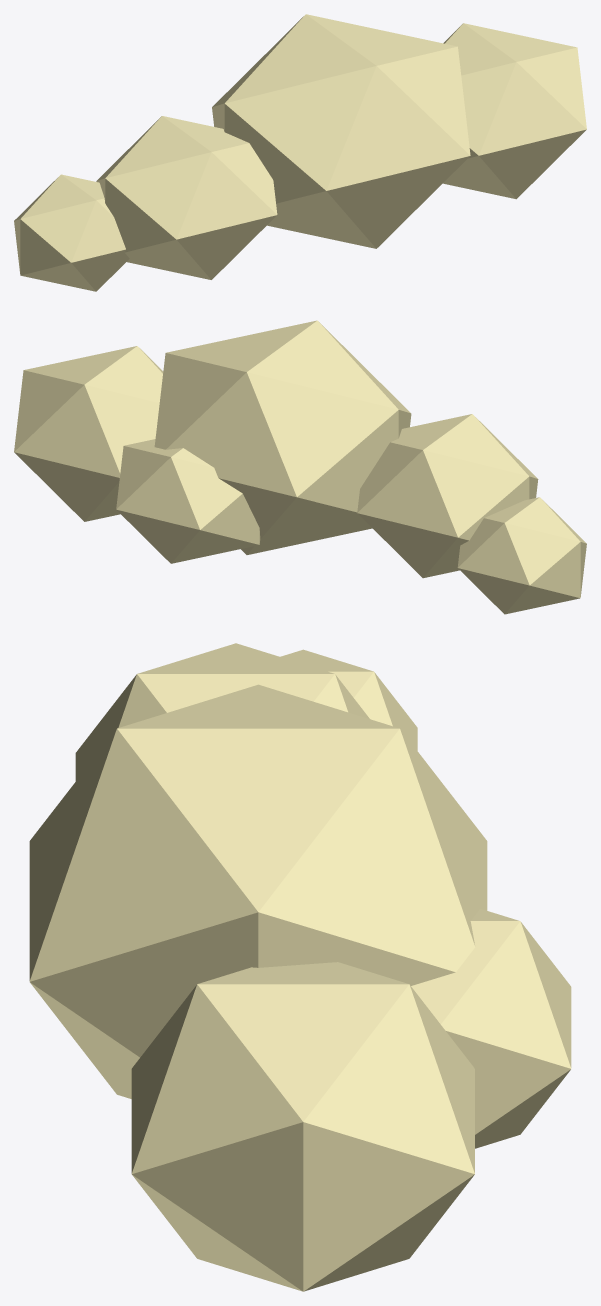
The model's file is cloud.glb.
The picture shows the model from 3 angles, top to bottom: view 1: azimuth 30°, elevation 25°; view 2: azimuth 150°, elevation 25°; view 3: azimuth 270°, elevation 25°; orthographic projection. The views are drawn at different scales.
Visible parts, largest first — view 1: E; view 2: E; view 3: E.
Boxes of the visible parts, x1,y1,x2,y2 form: E: (14,14,586,291); E: (14,320,586,614); E: (29,643,571,1291).
Bounding box in the file's own units: 2.44 × 0.7824 × 1.03.
